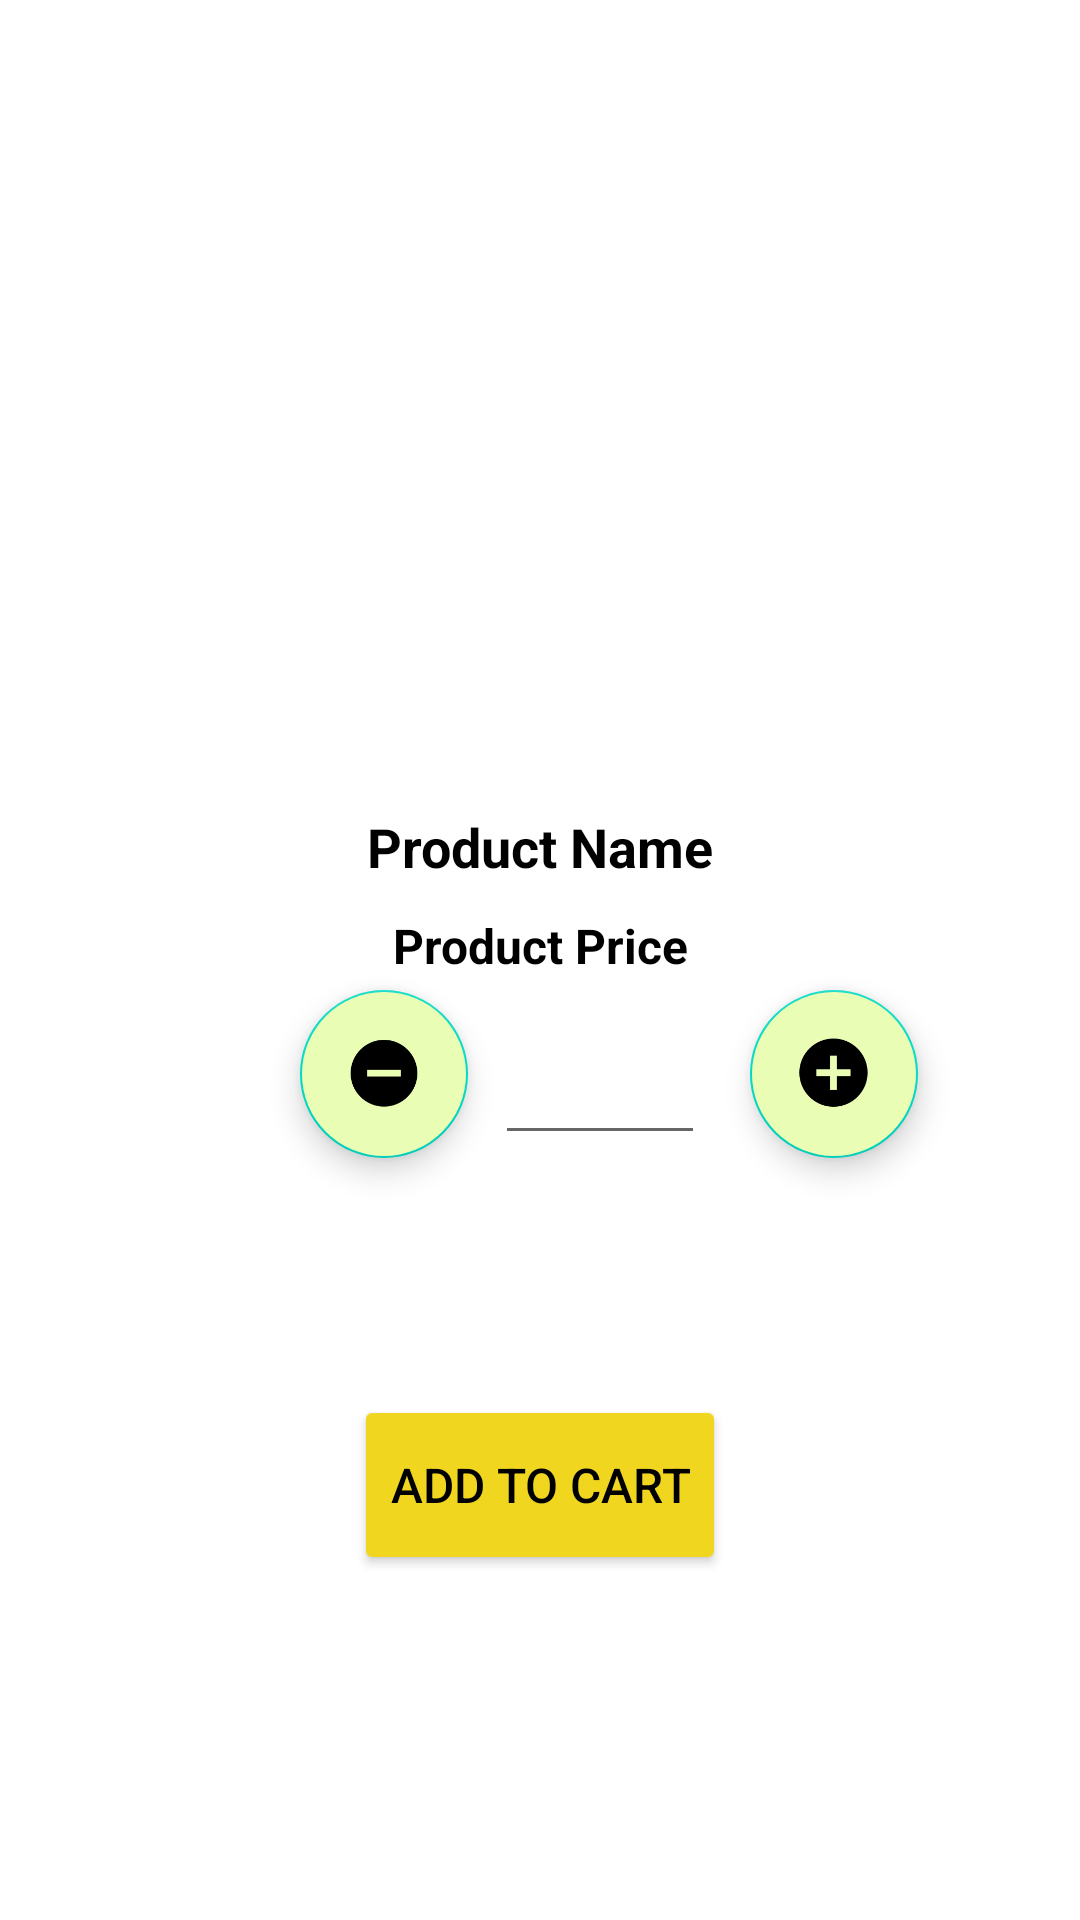

Icon bounding boxes for this 1080x1920 phone screenshot, format (x1, y1, x2, y2):
minus: (300, 990, 468, 1158)
plus: (750, 990, 918, 1158)
